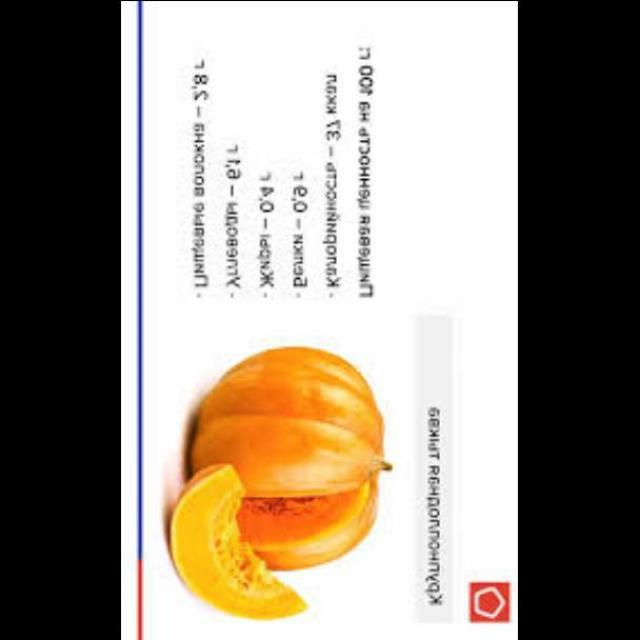Pumpkin: (184, 345, 398, 581), (160, 458, 309, 626)
